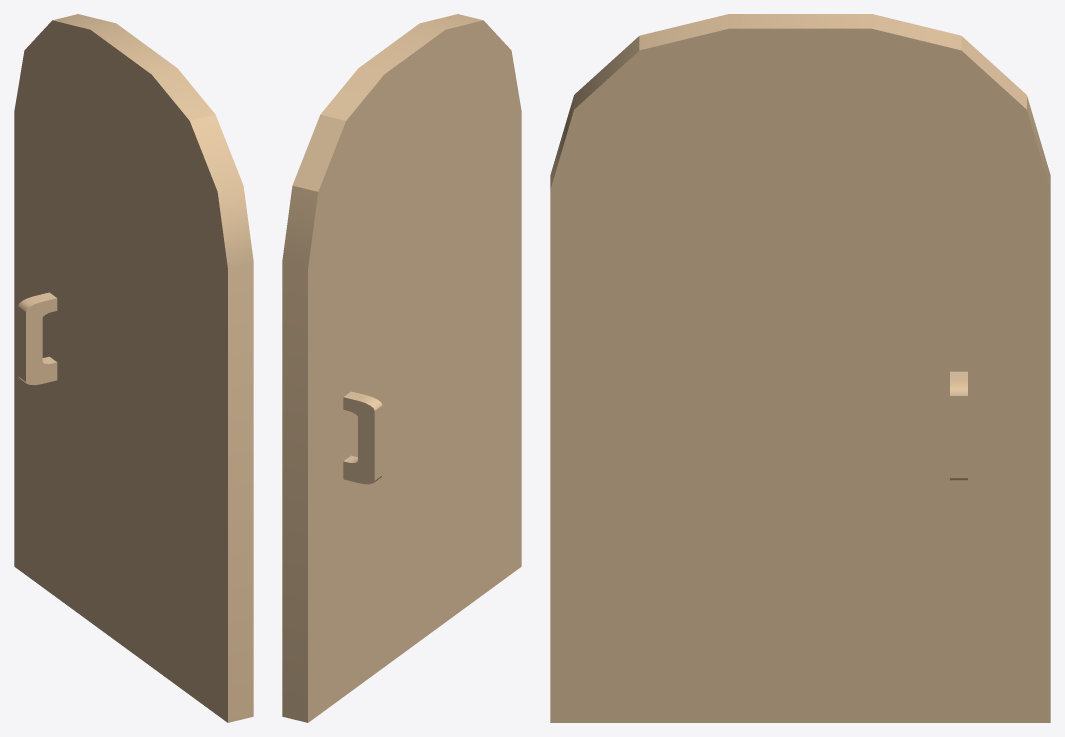
The model's file is Door.fbx.
The picture shows the model from 3 angles, left to right: view 1: azimuth 30°, elevation 25°; view 2: azimuth 150°, elevation 25°; view 3: azimuth 270°, elevation 25°; orthographic projection. The views are drawn at different scales.
Parts seen in each view (by area): view 1: Cube.096; view 2: Cube.096; view 3: Cube.096.
Part boxes in pixels (x1=…): Cube.096: x1=14, y1=14, x2=253, y2=722; Cube.096: x1=282, y1=14, x2=521, y2=722; Cube.096: x1=550, y1=14, x2=1050, y2=722.
Bounding box in the file's own units: 47.32 × 305 × 200.
